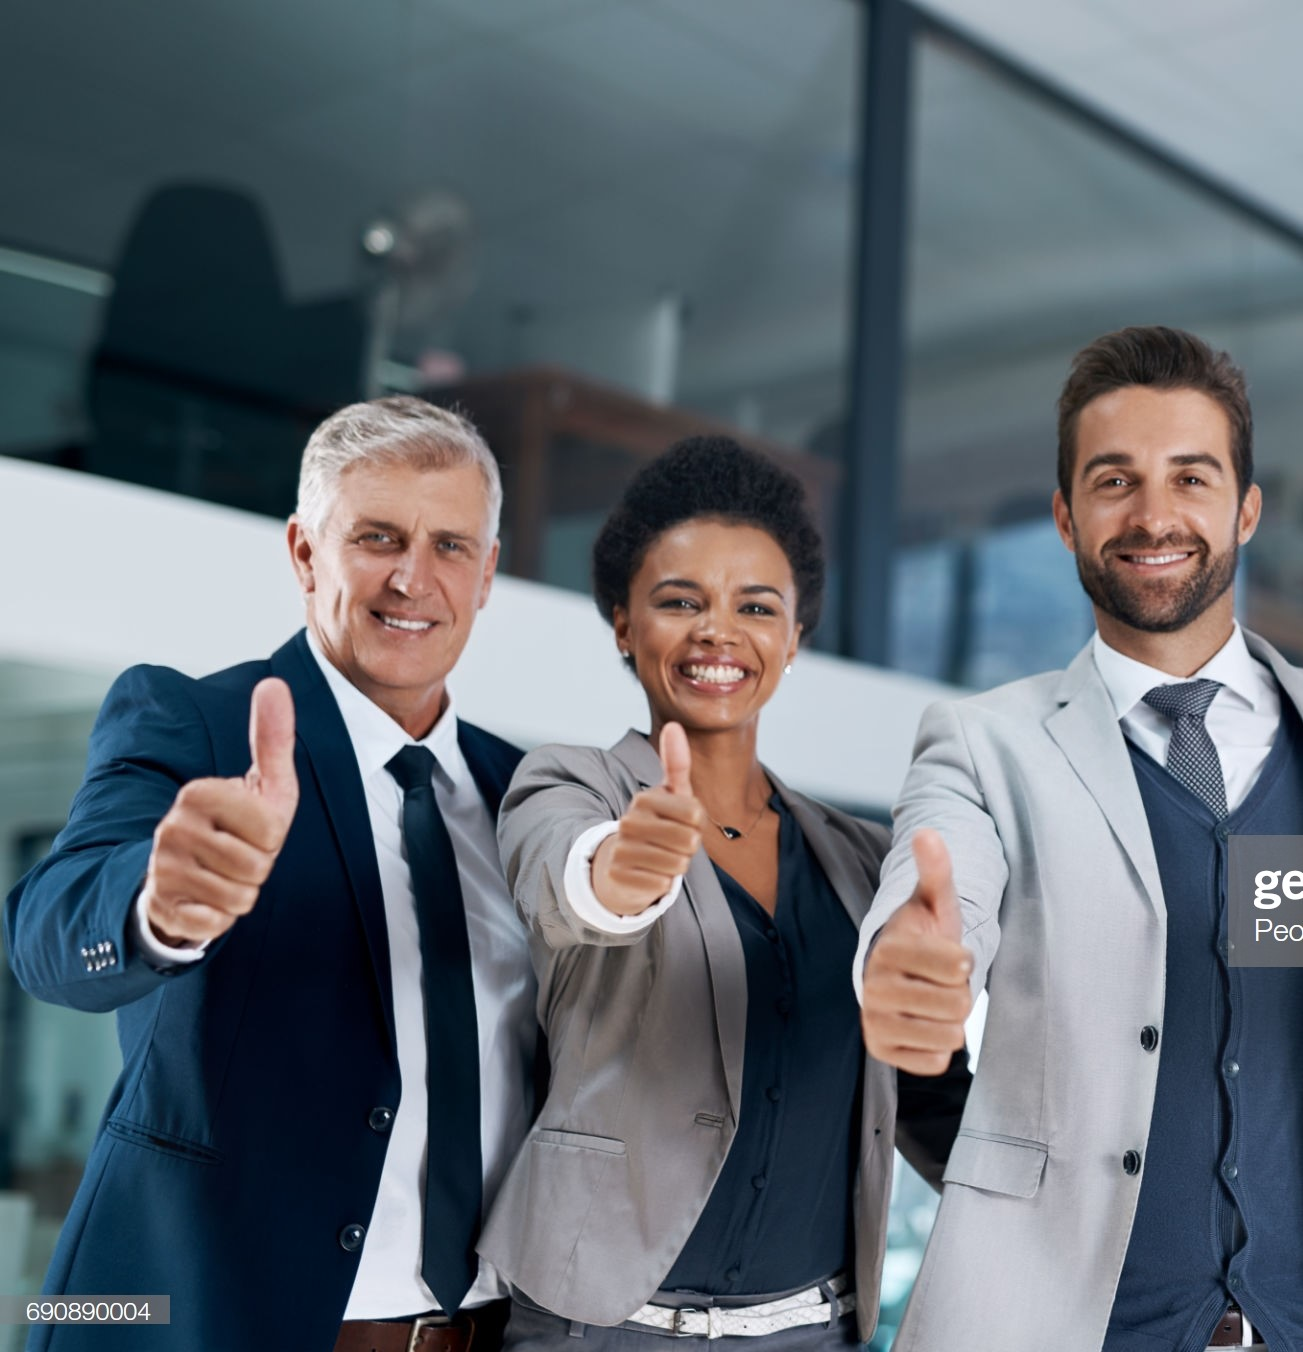thumbsup: (144, 676, 299, 942), (862, 831, 972, 1076), (607, 722, 703, 894)
